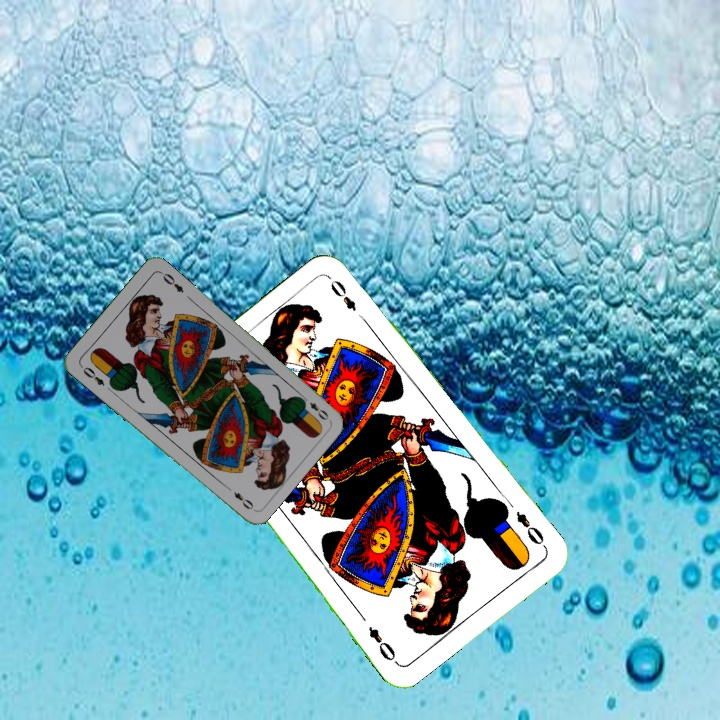EO: (511, 506, 549, 551), (298, 391, 331, 423), (79, 363, 107, 389)
